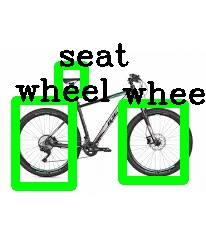seat: (58, 65, 84, 93)
wheel: (15, 100, 72, 186), (122, 103, 184, 180)
